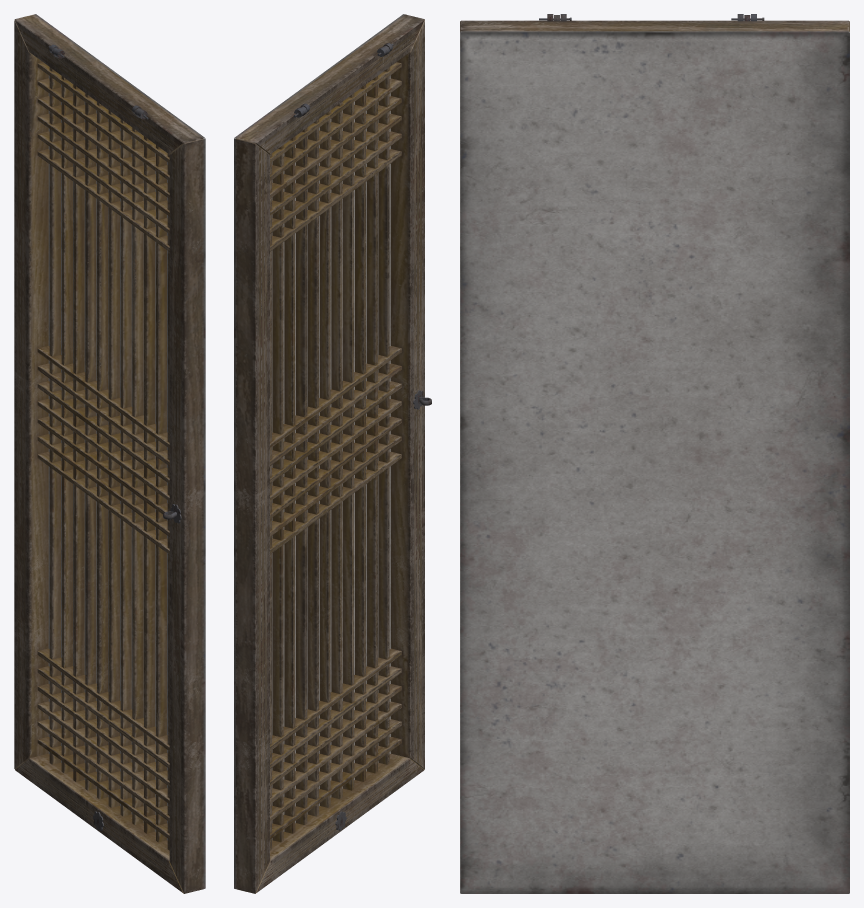
The model's file is SM_GPG_Door01a.fbx.
The picture shows the model from 3 angles, left to right: view 1: azimuth 30°, elevation 25°; view 2: azimuth 150°, elevation 25°; view 3: azimuth 270°, elevation 25°; orthographic projection. The views are drawn at different scales.
Visible parts, largest first — view 1: SM_GPG_Door01a; view 2: SM_GPG_Door01a; view 3: SM_GPG_Door01a.
Part boxes in pixels (x1,y1,x2,y2): SM_GPG_Door01a: [14, 14, 205, 893]; SM_GPG_Door01a: [234, 14, 431, 893]; SM_GPG_Door01a: [460, 14, 849, 893].
Bounding box in the file's own units: 9.65 × 82 × 201.
Materials: 1 (1 with a texture image).
